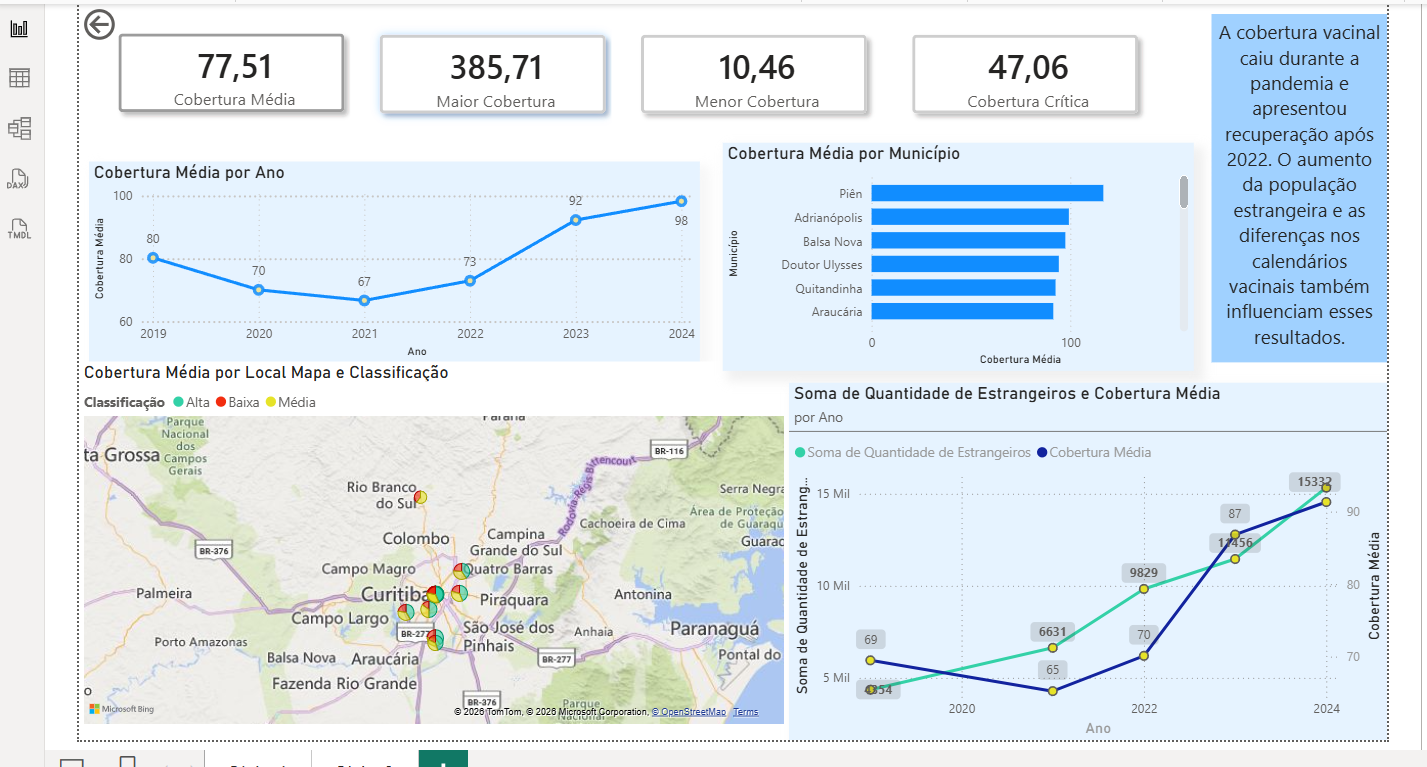

What the dashboard file says about the page in this screenshot:
{"tool":"powerbi","page":{"name":"Página 1","canvas":[1280,720],"ordinal":0},"visuals":[{"type":"cardVisual","fields":{"Data":["Cobertura Vacinal.Cobertura Média"]},"box":[9.6,0,279.9,135.8],"z":0},{"type":"cardVisual","fields":{"Data":["Cobertura Vacinal.Maior Cobertura"]},"box":[264.8,1.4,279.9,135.8],"z":1000},{"type":"cardVisual","fields":{"Data":["Cobertura Vacinal.Menor Cobertura"]},"box":[521.4,1.4,279.9,135.8],"z":2000},{"type":"cardVisual","fields":{"Data":["Cobertura Vacinal.Cobertura Crítica"]},"box":[783.8,0,294.7,135.7],"z":3000},{"type":"lineChart","fields":{"Category":["Cobertura Vacinal.Ano"],"Y":["Cobertura Vacinal.Cobertura Média"]},"box":[9.4,153.5,597.7,196.6],"z":4000},{"type":"actionButton","box":[0,0,100,40],"z":5000},{"type":"map","fields":{"Category":["Cobertura Vacinal.Local Mapa"],"Series":["Cobertura Vacinal.Classificação"],"Size":["Cobertura Vacinal.Cobertura Média"]},"box":[0,350,694.7,359.4],"z":6000},{"type":"barChart","fields":{"Category":["Cobertura Vacinal.Município"],"Y":["Cobertura Vacinal.Cobertura Média"]},"box":[630,136,460.4,223.5],"z":7000},{"type":"lineChart","title":"Registros Migratórios e Cobertura Vacinal Média por Ano","fields":{"Category":["Estrangeiros_Vacina.Ano"],"Y":["Sum(Estrangeiros_Vacina.Quantidade de Estrangeiros)"],"Y2":["Cobertura Vacinal.Cobertura Média"]},"box":[694.7,370.2,585.6,350],"z":8000},{"type":"textbox","box":[1108,9.4,172.3,340.6],"z":9000}]}

Visuals, with their boxes on the page's 1280x720 design canvas (x1, y1, x2, y2). These are canvas units, not pixel positions in the 1427x767 screenshot, which may show the page scaled, cropped or inside an application window:
cardVisual - Cobertura Vacinal.Cobertura Média: select_region(10, 0, 290, 136)
cardVisual - Cobertura Vacinal.Maior Cobertura: select_region(265, 1, 545, 137)
cardVisual - Cobertura Vacinal.Menor Cobertura: select_region(521, 1, 801, 137)
cardVisual - Cobertura Vacinal.Cobertura Crítica: select_region(784, 0, 1078, 136)
lineChart - Cobertura Vacinal.Ano x Cobertura Vacinal.Cobertura Média: select_region(9, 154, 607, 350)
actionButton: select_region(0, 0, 100, 40)
map - Cobertura Vacinal.Local Mapa x Cobertura Vacinal.Classificação: select_region(0, 350, 695, 709)
barChart - Cobertura Vacinal.Município x Cobertura Vacinal.Cobertura Média: select_region(630, 136, 1090, 360)
"Registros Migratórios e Cobertura Vacinal Média por Ano" lineChart: select_region(695, 370, 1280, 720)
textbox: select_region(1108, 9, 1280, 350)
